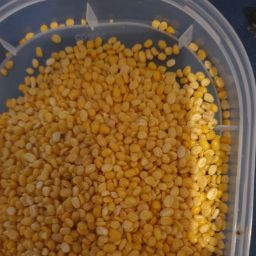Red Split Lentils(malka masar): (16, 38, 204, 256), (6, 73, 223, 210), (13, 111, 169, 256)
